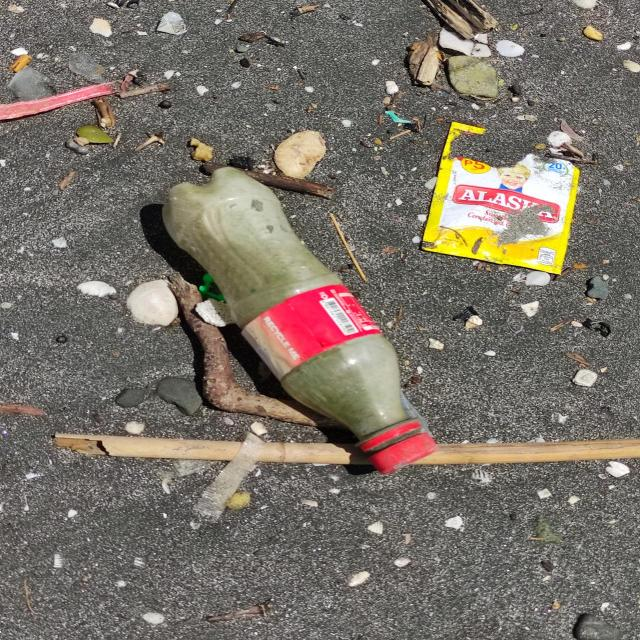plastic_waste: (160, 166, 434, 474), (422, 123, 582, 276)
